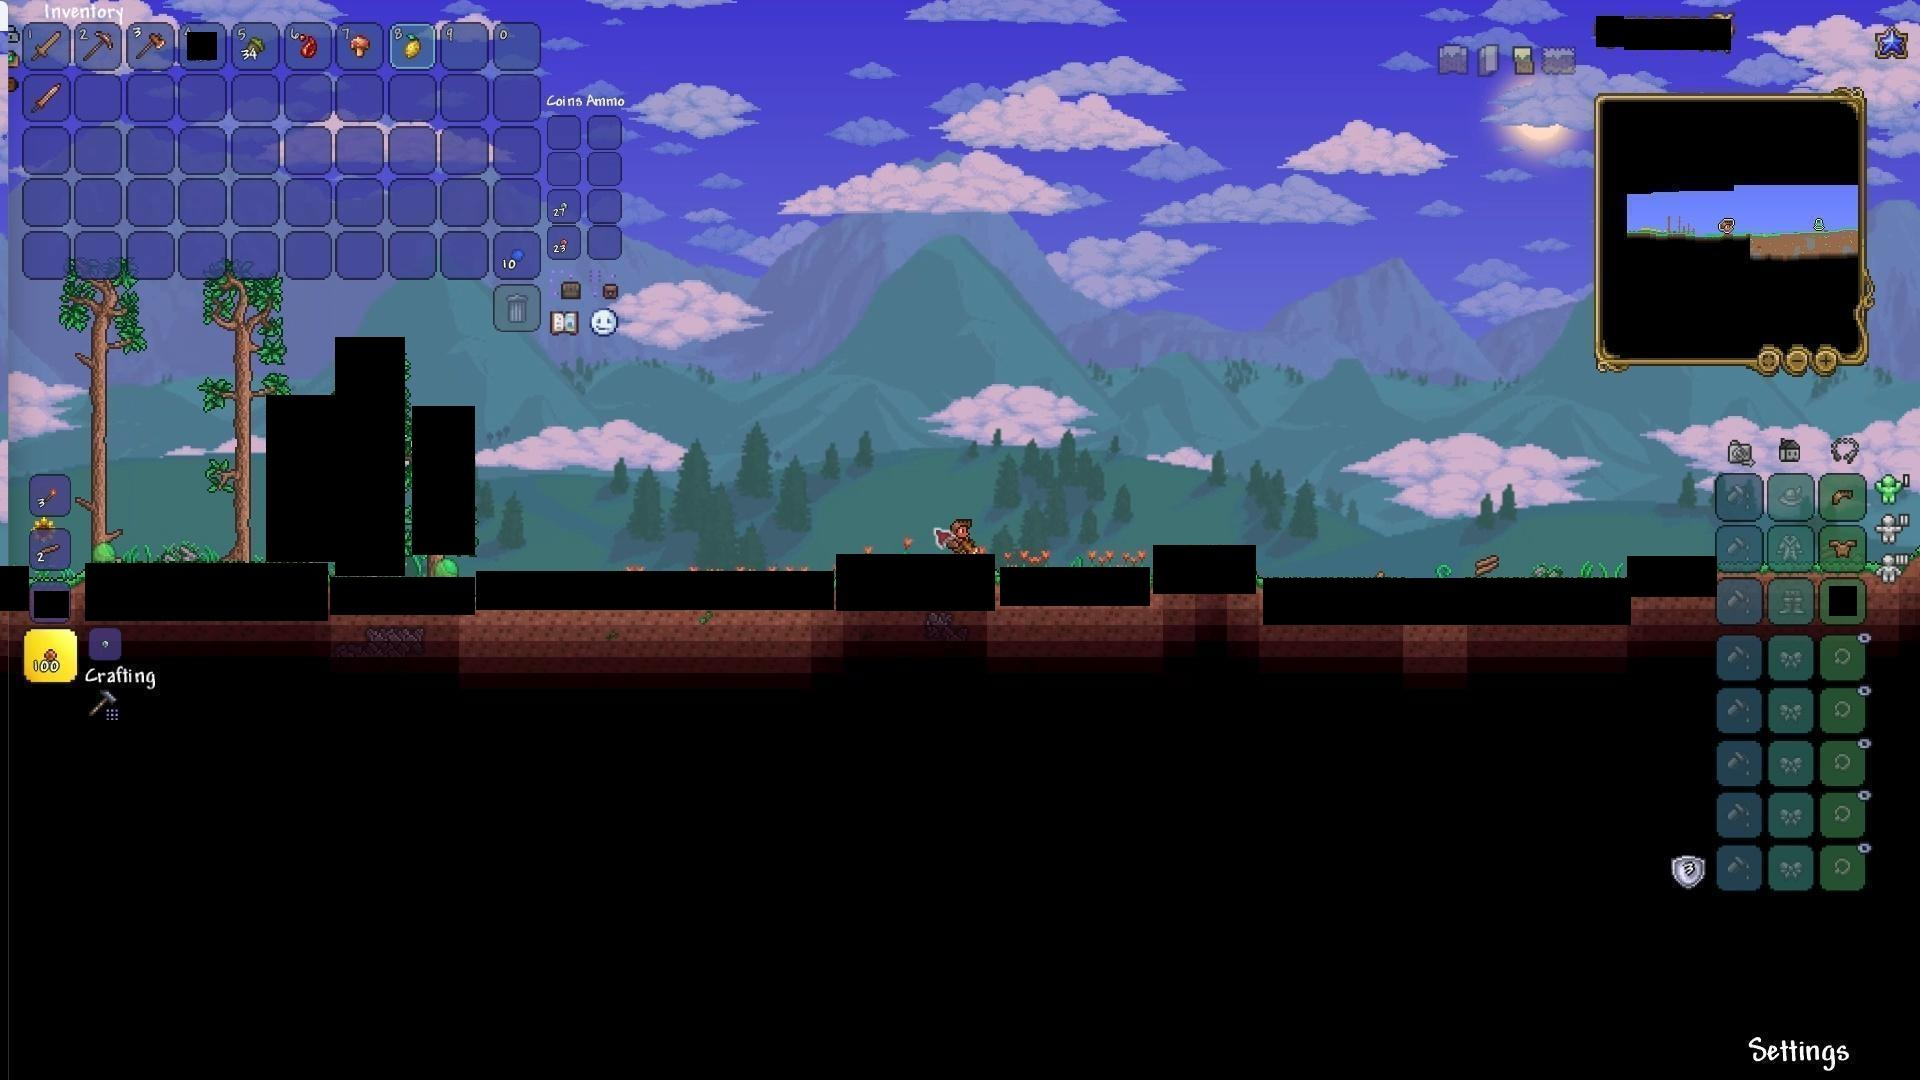breastplate: (1829, 538, 1859, 559)
helmet: (1828, 483, 1859, 510)
slime: (429, 556, 464, 582), (84, 542, 119, 567)
tree: (199, 276, 268, 560), (75, 277, 131, 542)
wood: (1473, 554, 1501, 580)
